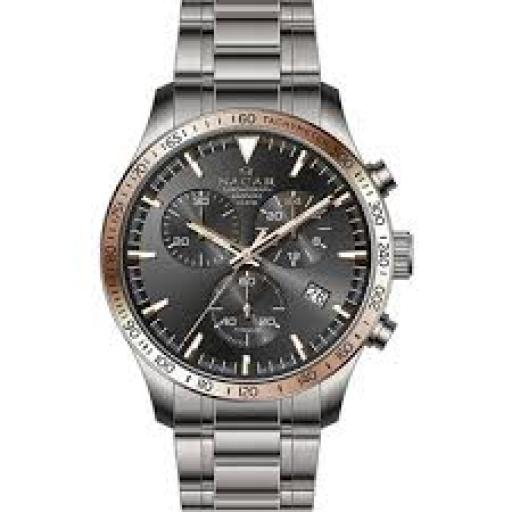KolSaati: (66, 0, 425, 512)
